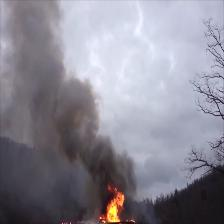fire: (101, 190, 124, 224)
smoke: (17, 24, 56, 124), (57, 86, 90, 154), (94, 140, 117, 190)
